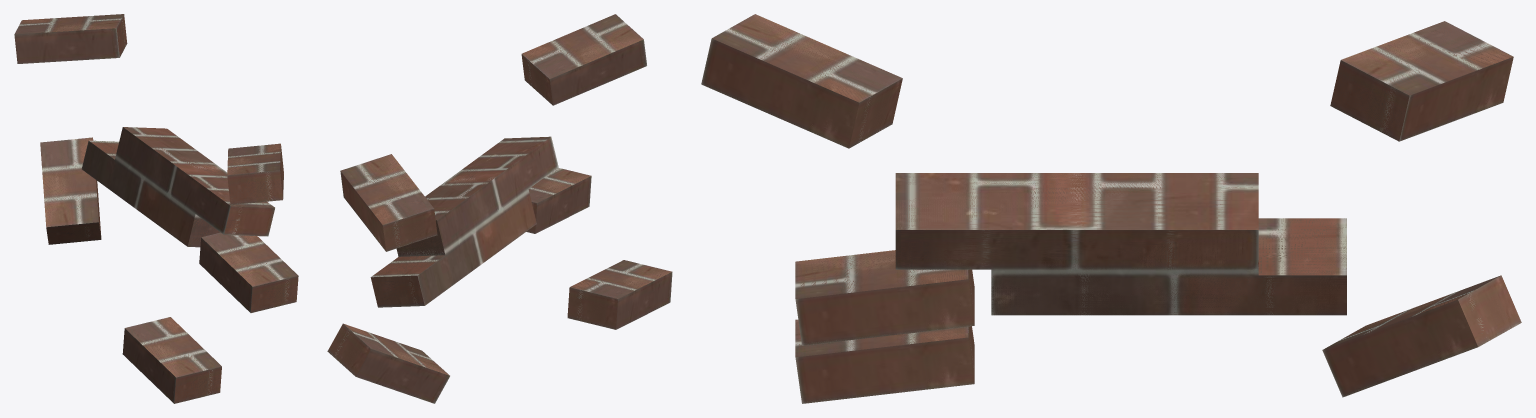
Rendered from bricks_1.dae.
3 views of the same model, side by side, from view 1: azimuth 30°, elevation 25°; view 2: azimuth 150°, elevation 25°; view 3: azimuth 270°, elevation 25° (orthographic). The views are drawn at different scales.
Parts seen in each view (by area): view 1: group_2, group_3, group_1, group_4, group_6, group_5; view 2: group_2, group_5, group_6, group_3, group_4, group_1; view 3: group_2, group_5, group_6, group_1, group_4, group_3.
Boxes of the visible parts, box(x1,y1,x2,y2) form: group_2: box(81, 127, 274, 247); group_3: box(122, 317, 221, 403); group_1: box(199, 232, 298, 312); group_4: box(40, 137, 101, 244); group_6: box(14, 14, 127, 63); group_5: box(227, 143, 283, 204); group_2: box(370, 136, 558, 307); group_5: box(521, 14, 646, 105); group_6: box(340, 154, 437, 251); group_3: box(567, 260, 672, 329); group_4: box(327, 323, 449, 403); group_1: box(526, 167, 591, 233); group_2: box(895, 173, 1346, 315); group_5: box(701, 14, 902, 148); group_6: box(1330, 21, 1513, 141); group_1: box(795, 250, 974, 345); group_4: box(1322, 275, 1521, 397); group_3: box(795, 319, 974, 403).
Bounding box in the file's own units: 6.75 × 21.81 × 11.51.
Materials: 6 (6 with a texture image).
